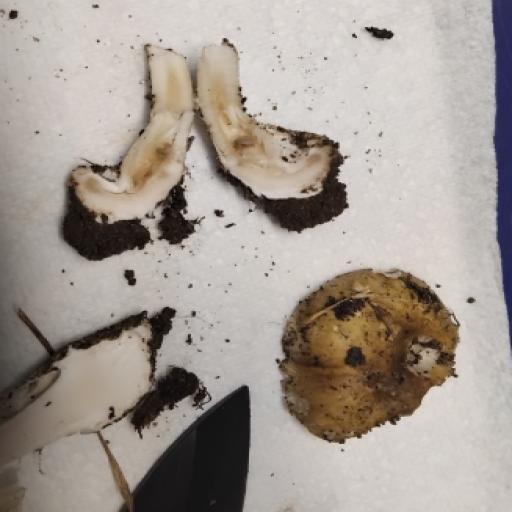mushroom: (39, 17, 358, 259), (236, 238, 477, 463), (0, 290, 201, 459)
